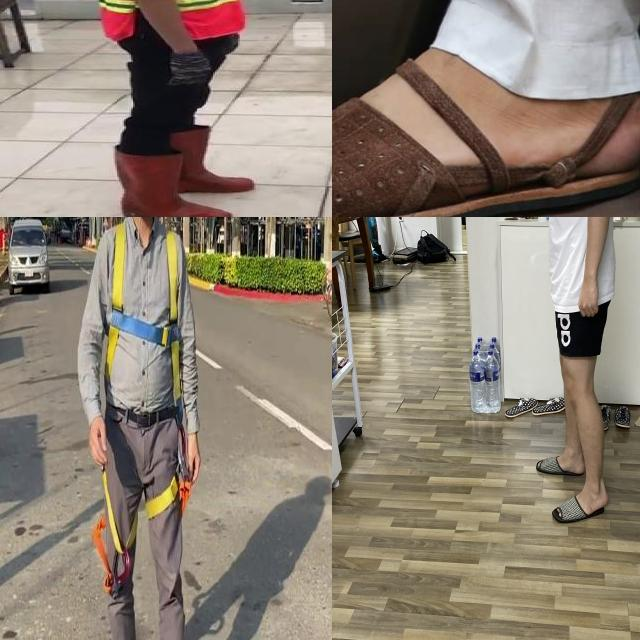Harness: (106, 224, 182, 404), (92, 472, 191, 598)
Sandals: (332, 24, 640, 217), (548, 484, 620, 530), (528, 450, 594, 486)
boots: (111, 149, 230, 217), (172, 127, 256, 196)
person: (73, 0, 270, 217)
vest: (87, 0, 245, 39)
